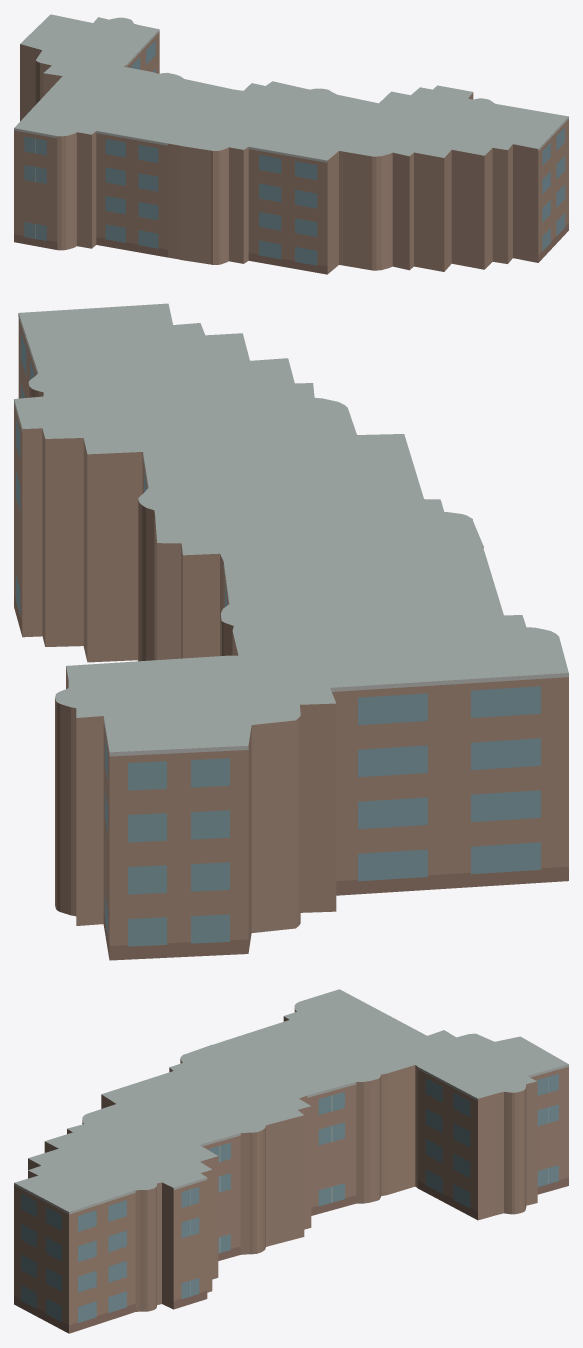
File: survey-upis-32896347.glb
The picture shows the model from 3 angles, top to bottom: view 1: azimuth 30°, elevation 25°; view 2: azimuth 150°, elevation 25°; view 3: azimuth 270°, elevation 25°; orthographic projection. The views are drawn at different scales.
Visible parts, largest first — view 1: survey-upis-32896347.tmp; view 2: survey-upis-32896347.tmp; view 3: survey-upis-32896347.tmp.
Boxes of the visible parts, left/top/right/bottom form: survey-upis-32896347.tmp: left=14, top=14, right=568, bottom=274; survey-upis-32896347.tmp: left=14, top=303, right=568, bottom=960; survey-upis-32896347.tmp: left=14, top=989, right=568, bottom=1333.
Size of the model in its own units: 47.96 by 12.2 by 50.45.
